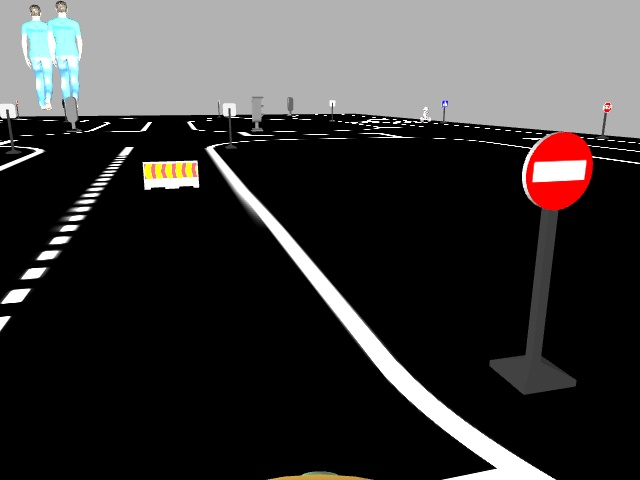ClosedRoadStand: (140, 163, 199, 188)
NoEntry: (524, 131, 591, 204)
